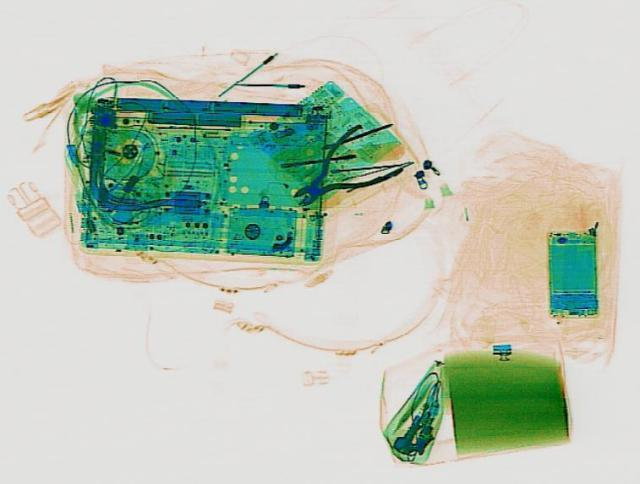Pliers: (268, 121, 414, 221)
